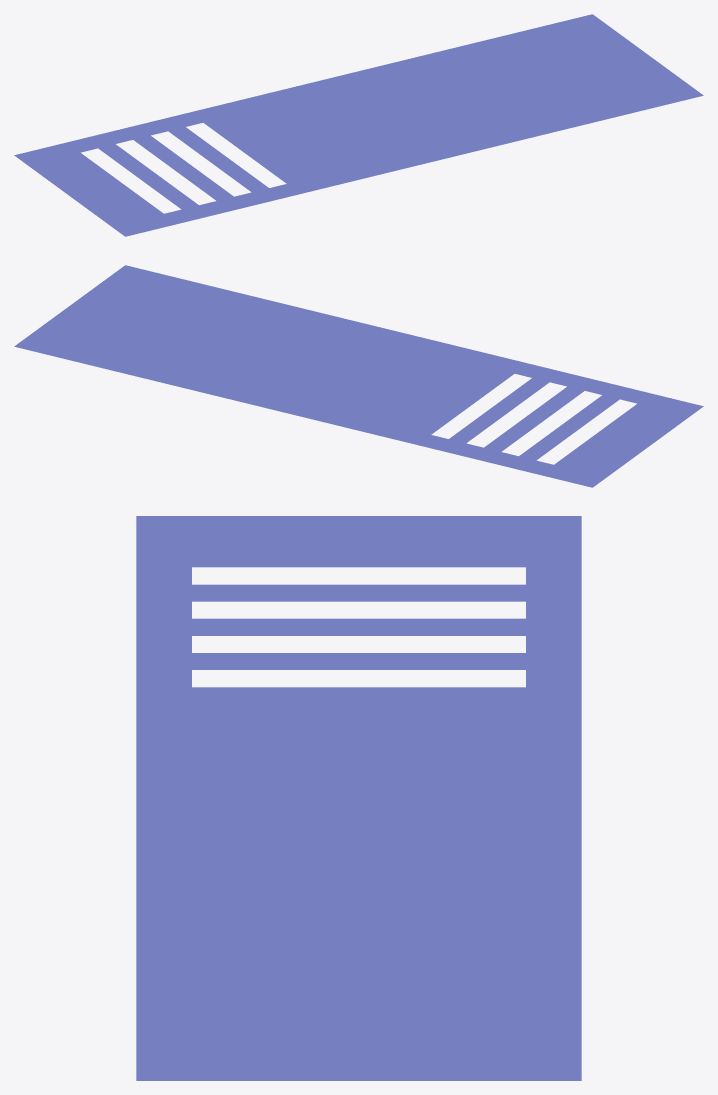
Rendered from door_r.fbx.
3 renders of one model, top to bottom at view 1: azimuth 30°, elevation 25°; view 2: azimuth 150°, elevation 25°; view 3: azimuth 270°, elevation 25°, orthographic. The views are drawn at different scales.
Parts seen in each view (by area): view 1: Door_r; view 2: Door_r; view 3: Door_r.
Part boxes in pixels (x1,y1,x2,y2): Door_r: (14, 14, 703, 236); Door_r: (14, 265, 703, 487); Door_r: (136, 516, 581, 1080).
Bounding box in the file's own units: 600 × 0 × 200.
